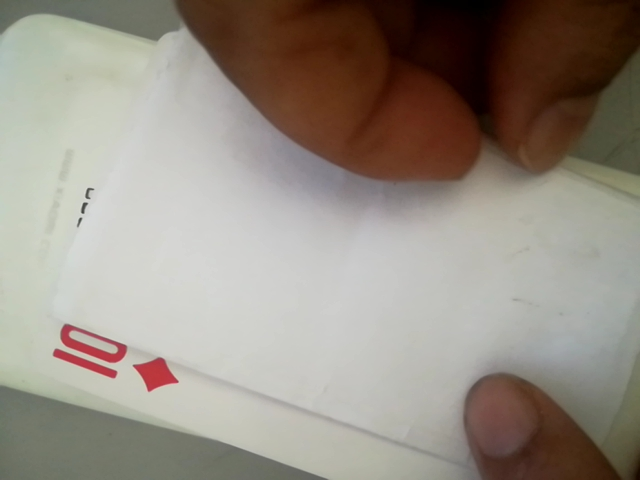fk 10: (41, 322, 178, 401)
